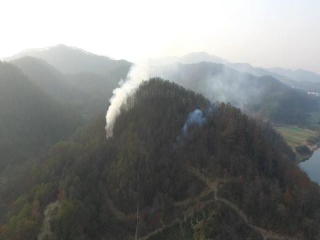smoke: (103, 59, 147, 144), (180, 95, 218, 144)
